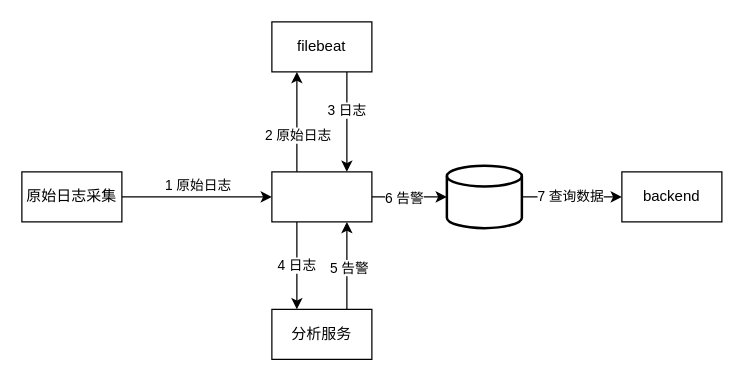
This 744x381 diagram has some shape labels left out. The shapes that lost their labels are listed below. From the top down, each one's centre as x and y in pixels, then its label:
At pixel 321 196: "kafka".
At pixel 483 196: "postgres".
